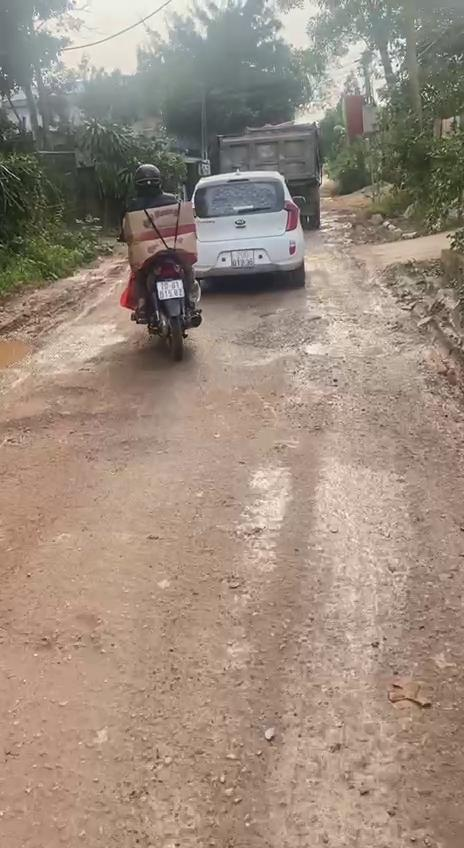pothole: (241, 313, 410, 366), (0, 326, 52, 384)
